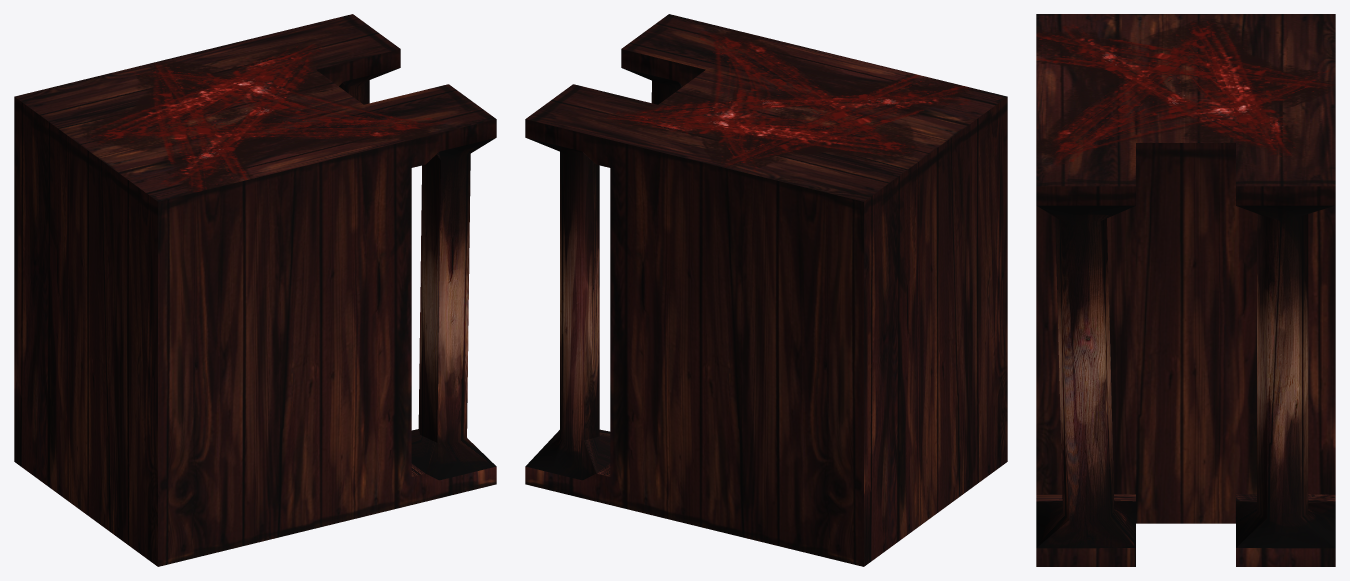
Rendered from altar.fbx.
3 renders of one model, left to right at view 1: azimuth 30°, elevation 25°; view 2: azimuth 150°, elevation 25°; view 3: azimuth 270°, elevation 25°, orthographic. The views are drawn at different scales.
Parts seen in each view (by area): view 1: pCube1; view 2: pCube1; view 3: pCube1.
Boxes of the visible parts, x1,y1,x2,y2 form: pCube1: (14,14,496,566); pCube1: (525,14,1007,566); pCube1: (1036,14,1335,566).
Size of the model in its own units: 4.08 by 4.21 by 3.
Materials: 1 (1 with a texture image).
